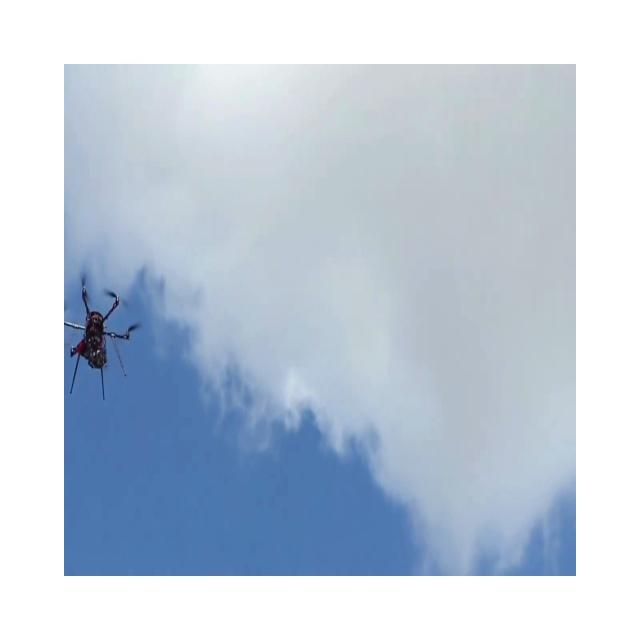drone: (64, 275, 140, 400)
